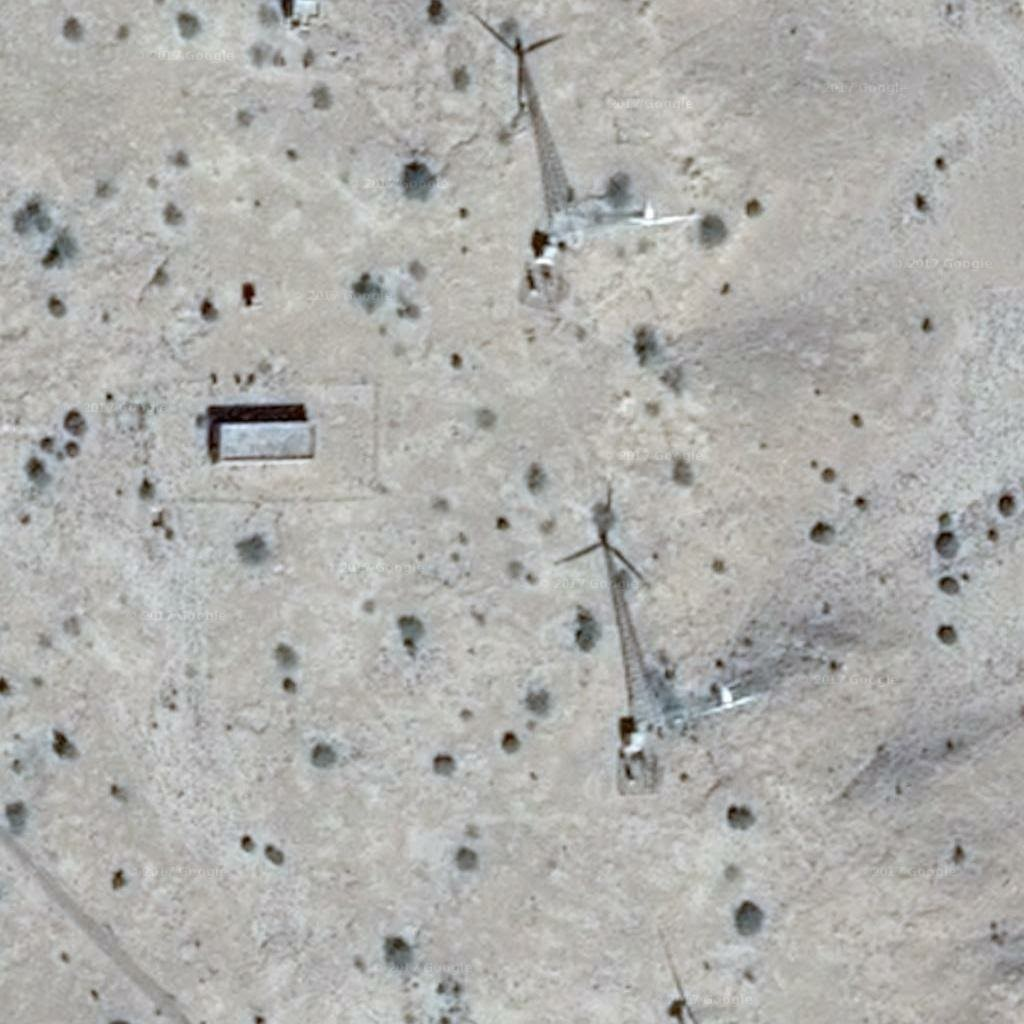Windmill: (469, 9, 590, 213)
